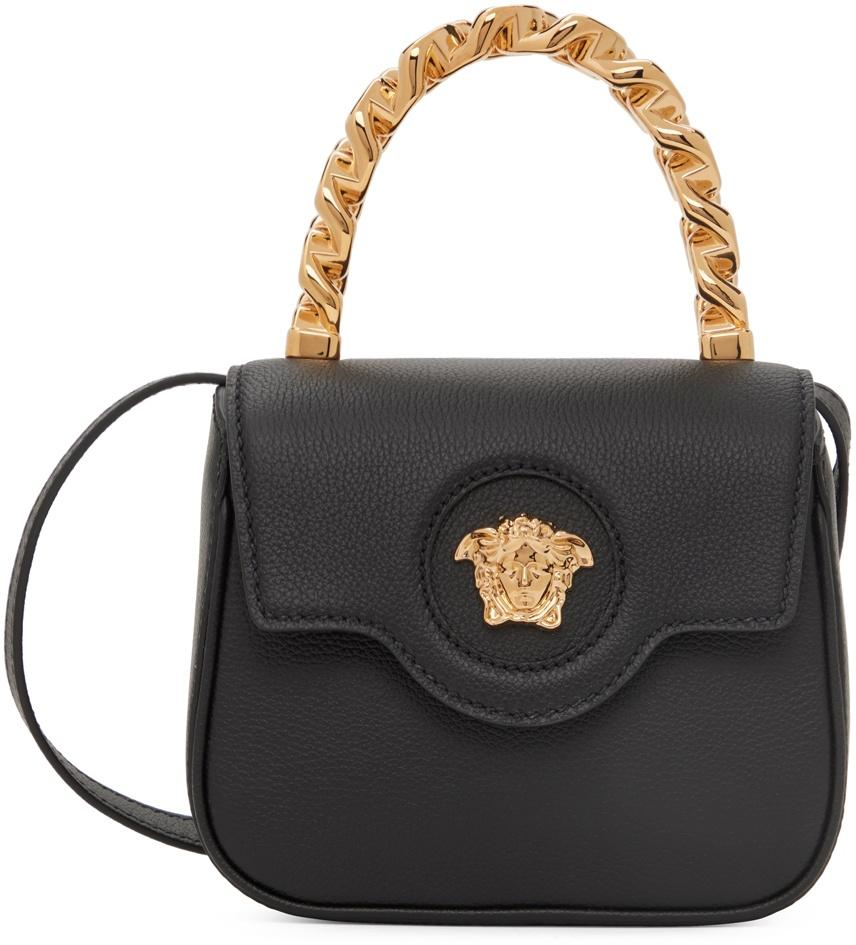VERSACE: (414, 453, 630, 674)
